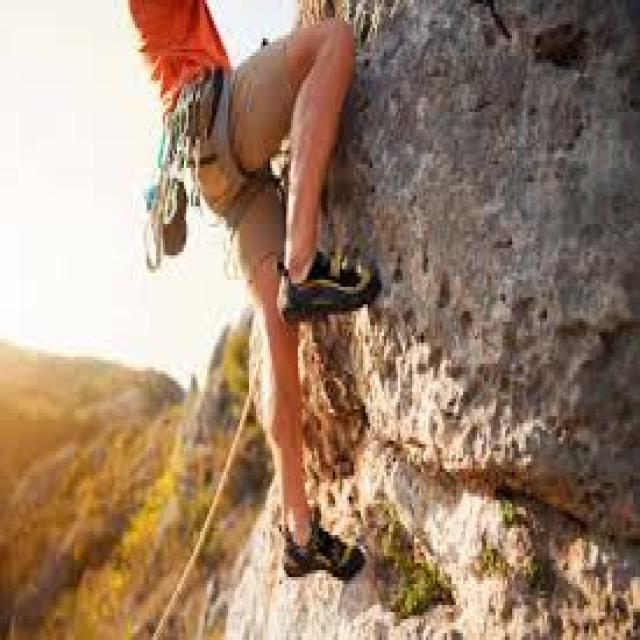climbing-shoes: (279, 245, 380, 322), (275, 510, 367, 585)
